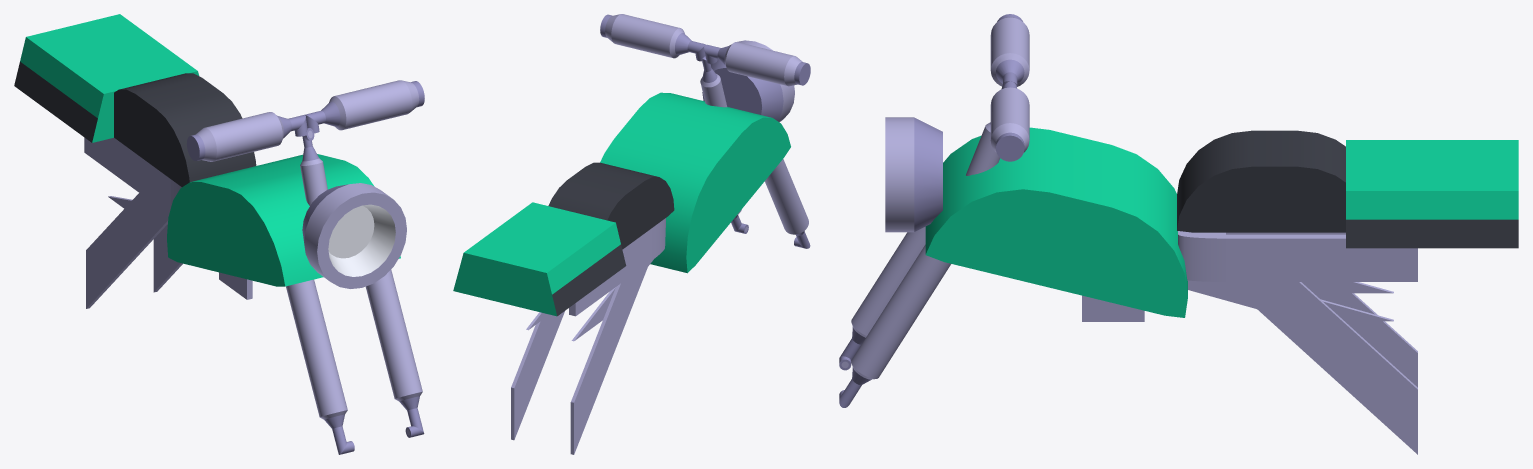
Rendered from motorcycle_No_Wheel.fbx.
3 views of the same model, side by side, from view 1: azimuth 30°, elevation 25°; view 2: azimuth 150°, elevation 25°; view 3: azimuth 270°, elevation 25° (orthographic). The views are drawn at different scales.
Visible parts, largest first — view 1: wheel_coverWide (×4), body_topBackVan, detail_rollbar (×2), detail_exhaustVerticalThin (×2), detail_light, detail_exhaustVertical (×3); view 2: wheel_coverWide (×4), body_topBackVan, detail_rollbar (×2), detail_exhaustVertical (×3), detail_light, detail_exhaustVerticalThin; view 3: wheel_coverWide (×4), detail_rollbar (×2), body_topBackVan, detail_exhaustVerticalThin (×2), detail_light, detail_exhaustVertical (×3).
Part boxes in pixels (<box>): wheel_coverWide (×4): <box>114,73,400,286</box>; body_topBackVan: <box>14,14,199,142</box>; detail_rollbar (×2): <box>84,137,252,308</box>; detail_exhaustVerticalThin (×2): <box>286,269,424,454</box>; detail_light: <box>302,183,406,288</box>; detail_exhaustVertical (×3): <box>186,80,424,205</box>; wheel_coverWide (×4): <box>548,92,790,273</box>; body_topBackVan: <box>453,202,626,316</box>; detail_rollbar (×2): <box>511,218,665,454</box>; detail_exhaustVertical (×3): <box>600,14,810,107</box>; detail_light: <box>702,40,794,122</box>; detail_exhaustVerticalThin: <box>764,159,810,248</box>; wheel_coverWide (×4): <box>925,127,1345,317</box>; detail_rollbar (×2): <box>1082,231,1417,454</box>; body_topBackVan: <box>1346,140,1518,248</box>; detail_exhaustVerticalThin (×2): <box>839,226,950,407</box>; detail_light: <box>885,117,942,232</box>; detail_exhaustVertical (×3): <box>966,14,1029,175</box>.
Bounding box in the file's own units: 6 × 8.41 × 14.16.
